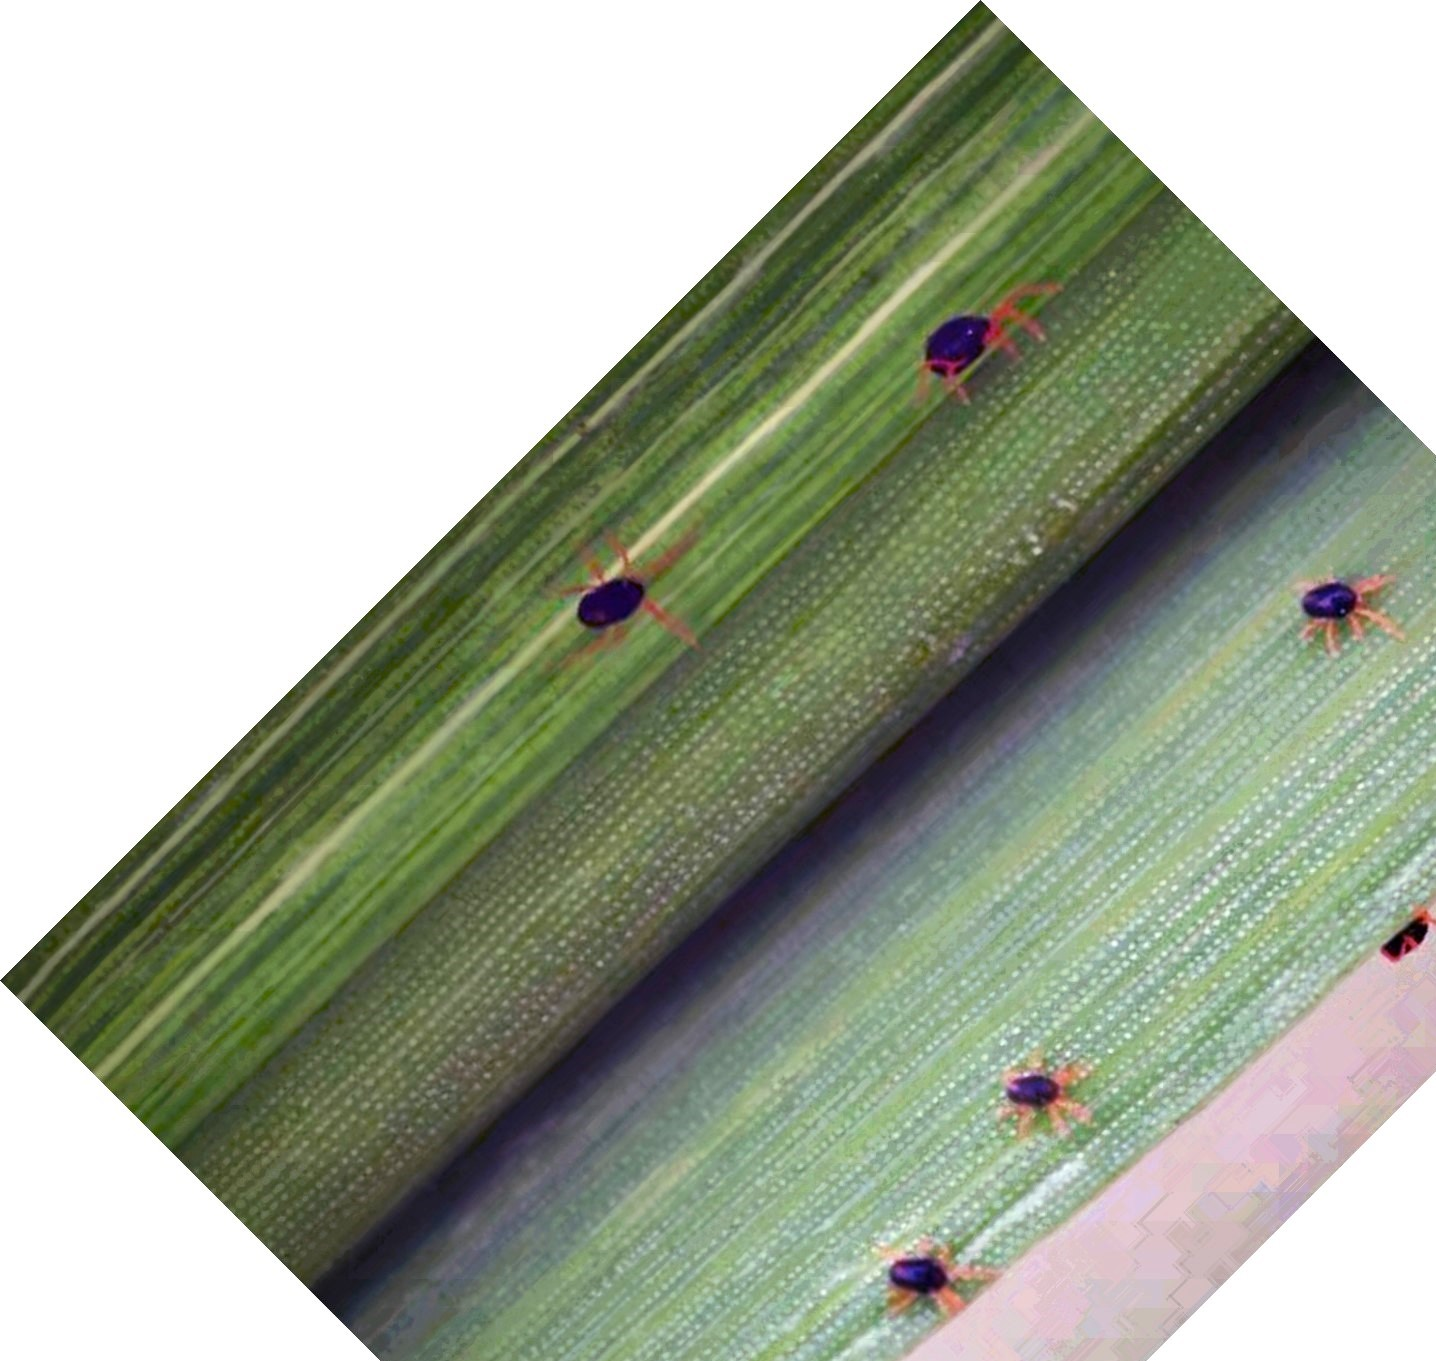Wheat Red Spider: (896, 262, 1082, 418), (1281, 546, 1419, 674)
